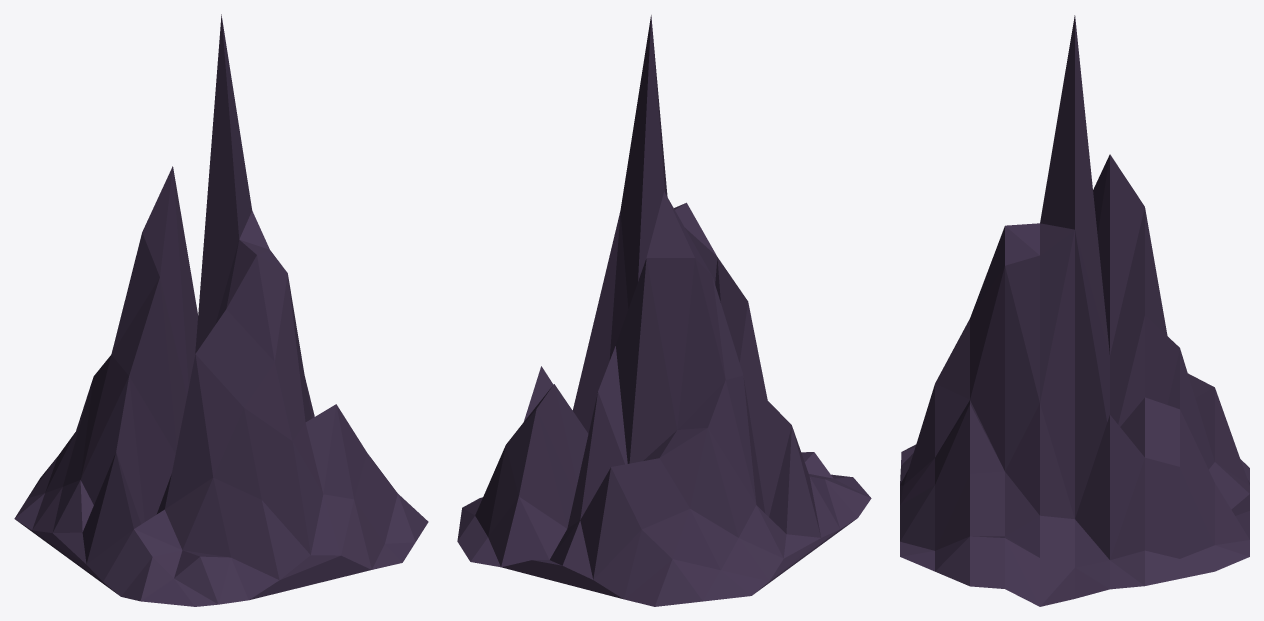
3 views of the same model, side by side, from view 1: azimuth 30°, elevation 25°; view 2: azimuth 150°, elevation 25°; view 3: azimuth 270°, elevation 25° (orthographic).
Visible parts, largest first — view 1: Plane; view 2: Plane; view 3: Plane.
Boxes of the visible parts, x1,y1,x2,y2 form: Plane: (14, 14, 428, 606); Plane: (457, 15, 871, 606); Plane: (900, 15, 1249, 606).
Bounding box in the file's own units: 2000 × 3274 × 2000.
